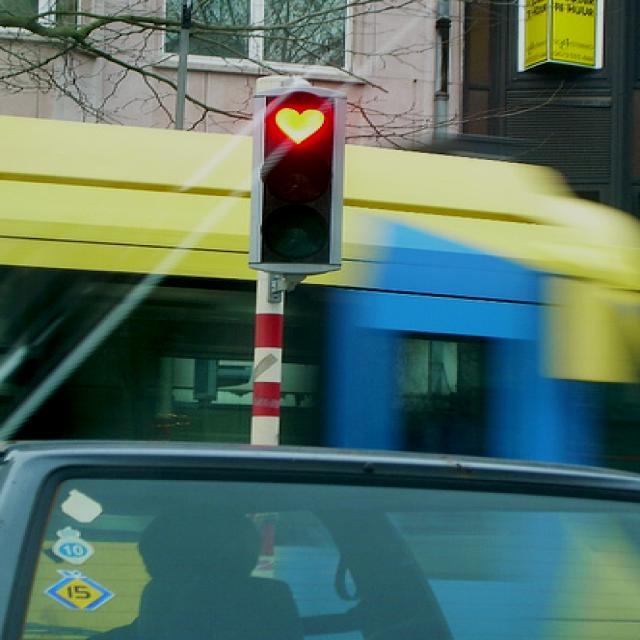Vehicle: (0, 116, 640, 504), (0, 438, 640, 640)
